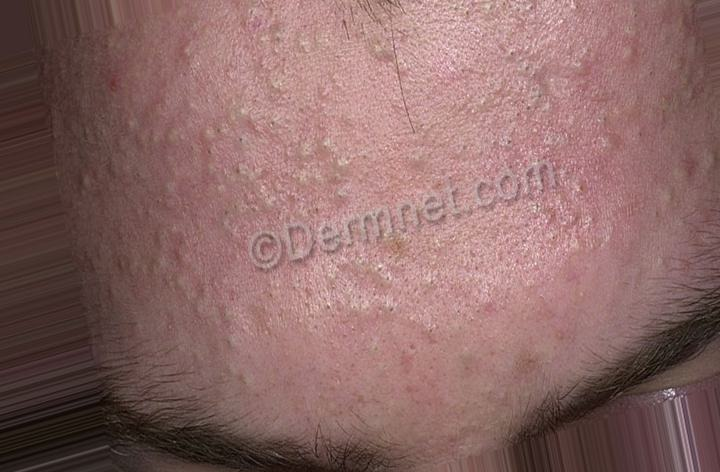Acne: (60, 20, 713, 353)
